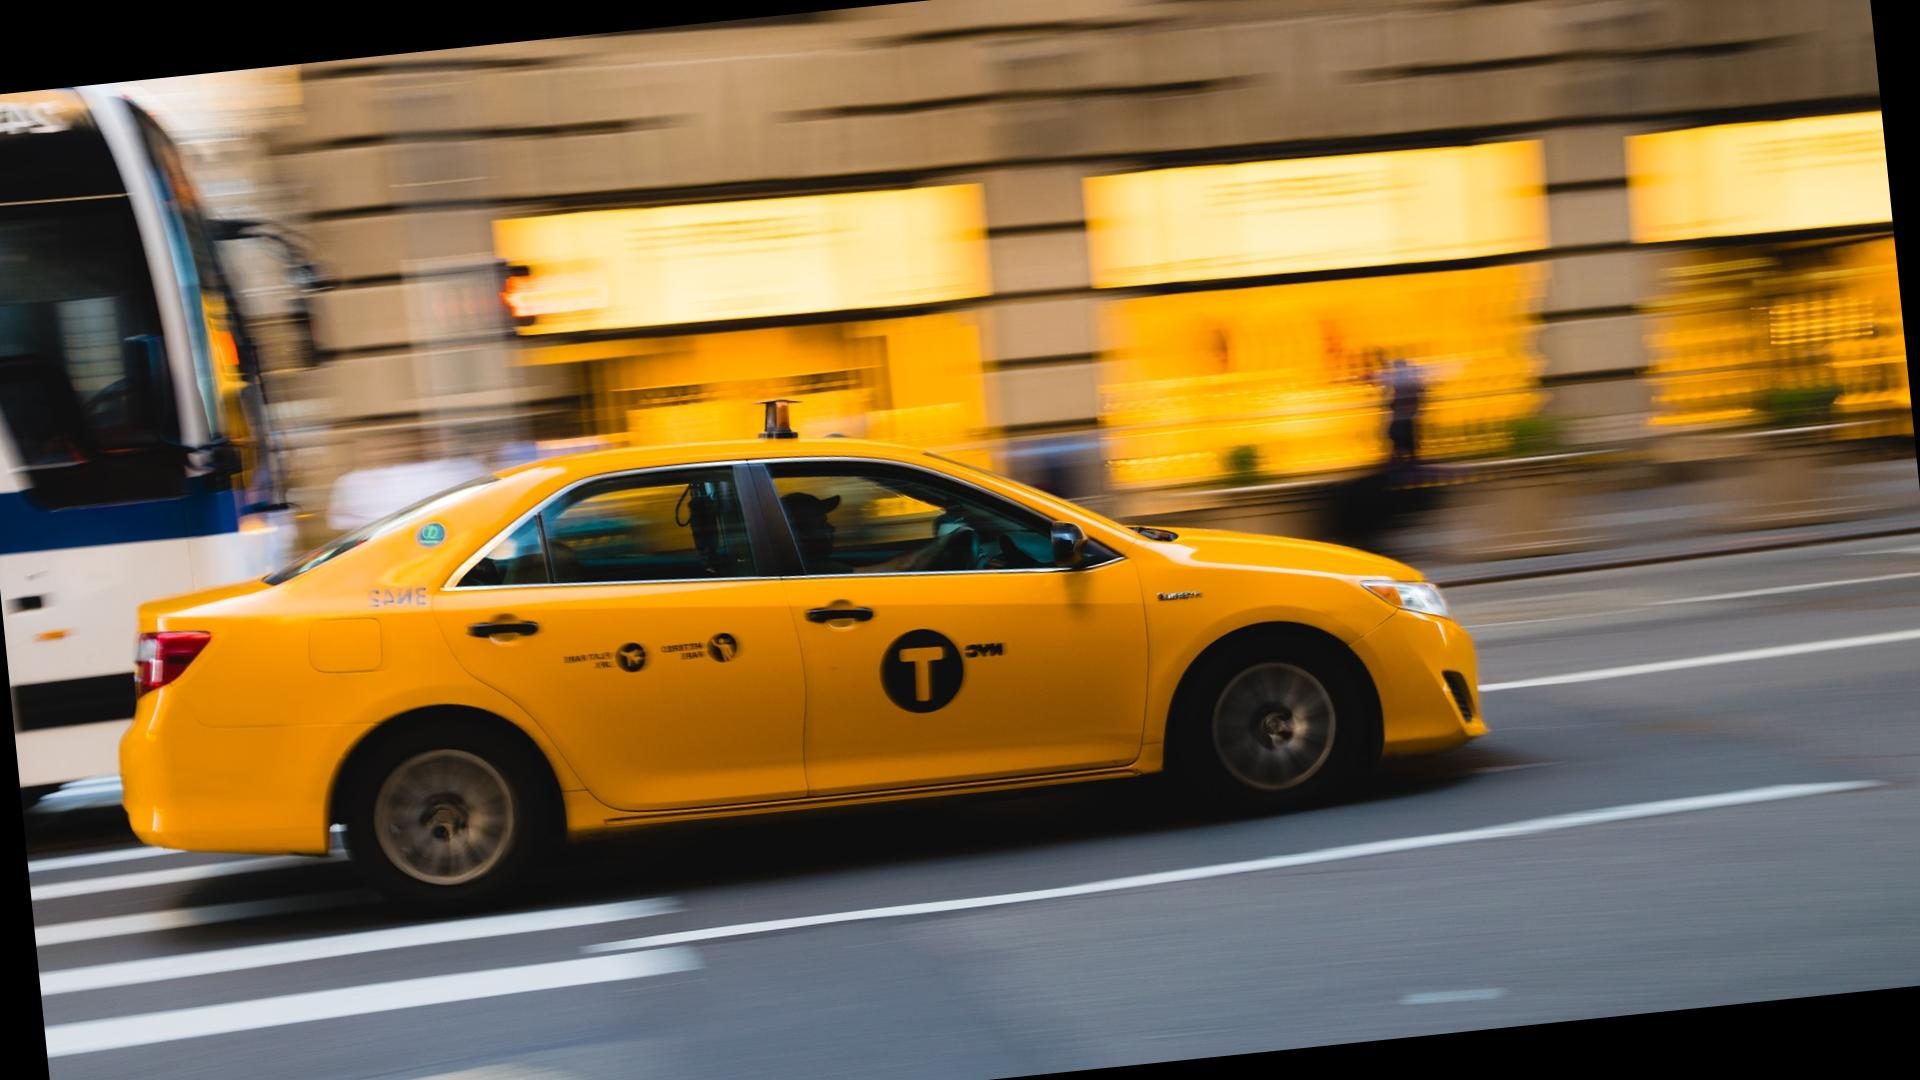taxi: (111, 433, 1547, 913)
